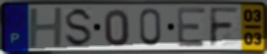0: (102, 7, 131, 49), (138, 7, 163, 48)
E: (176, 6, 208, 49)
F: (208, 6, 242, 48)
H: (28, 6, 65, 50)
S: (63, 6, 95, 49)
